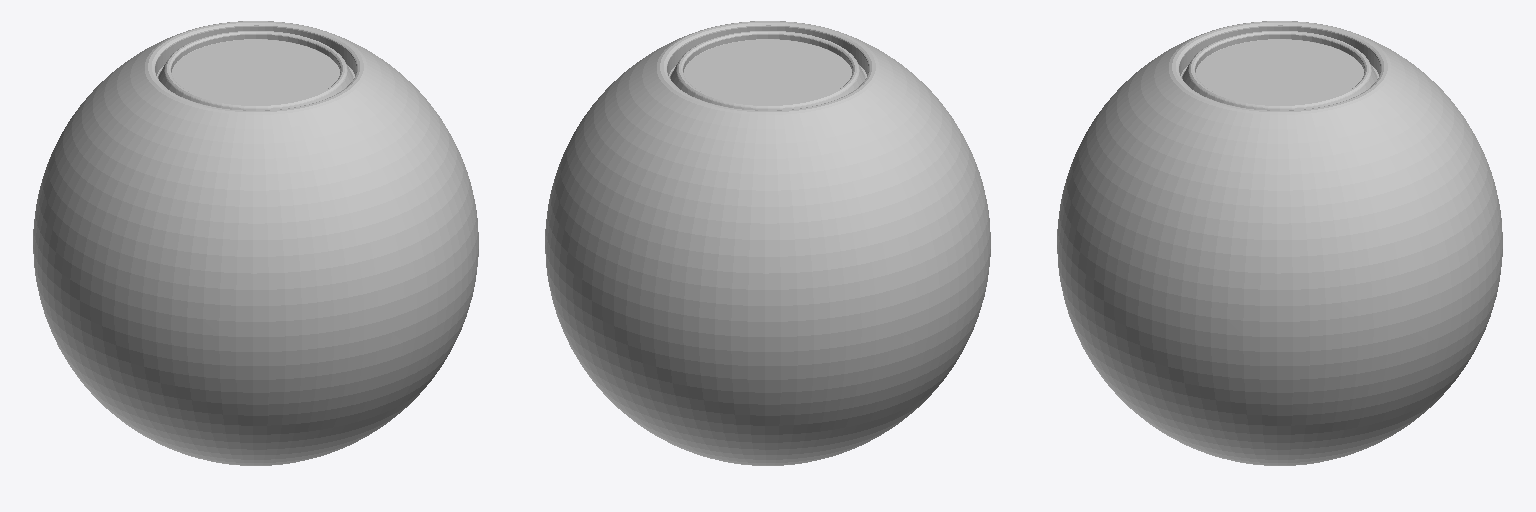
The model's file is magicEightBall.obj.
3 renders of one model, left to right at view 1: azimuth 30°, elevation 25°; view 2: azimuth 150°, elevation 25°; view 3: azimuth 270°, elevation 25°, orthographic.
Visible parts, largest first — view 1: Ball, Glass; view 2: Ball, Glass; view 3: Ball, Glass.
Boxes of the visible parts, box(x1,y1,x2,y2) form: Ball: box(33, 21, 478, 465); Glass: box(172, 39, 339, 104); Ball: box(545, 21, 990, 465); Glass: box(684, 39, 851, 104); Ball: box(1057, 21, 1502, 465); Glass: box(1196, 39, 1363, 104).
Size of the model in its own units: 27.95 by 26.17 by 27.95.